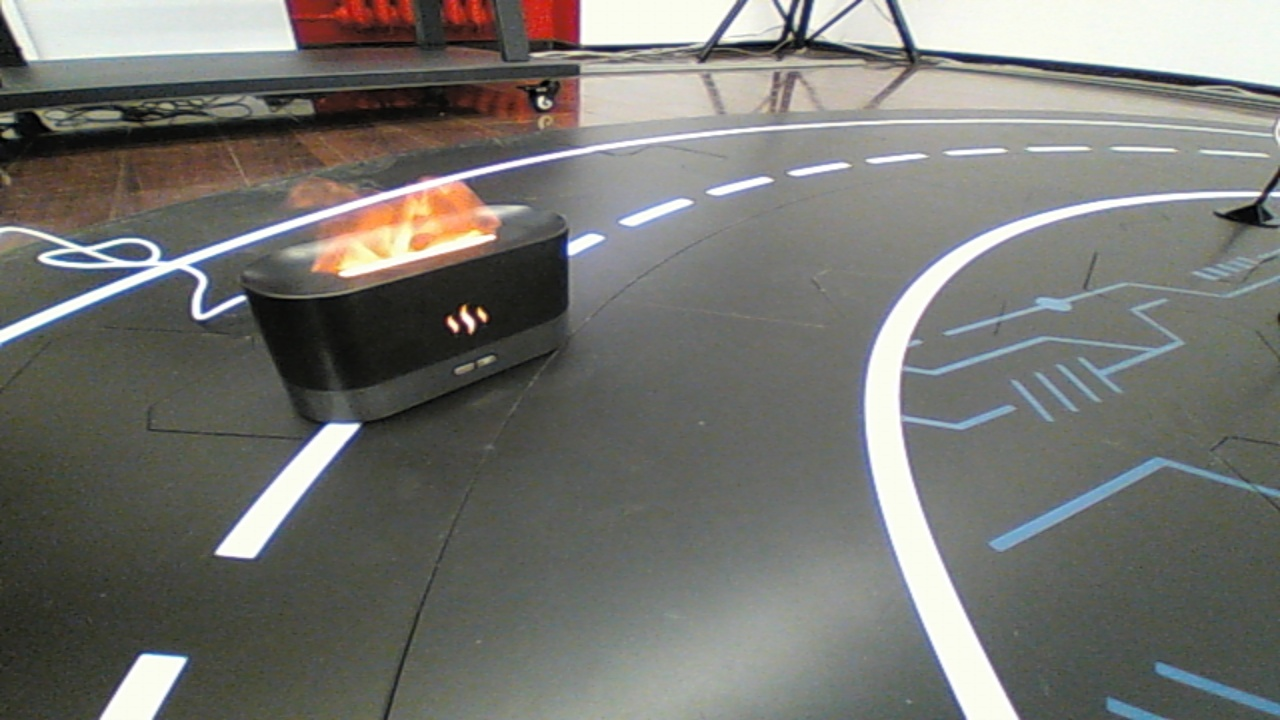Movement prohibition: (230, 179, 602, 438)
